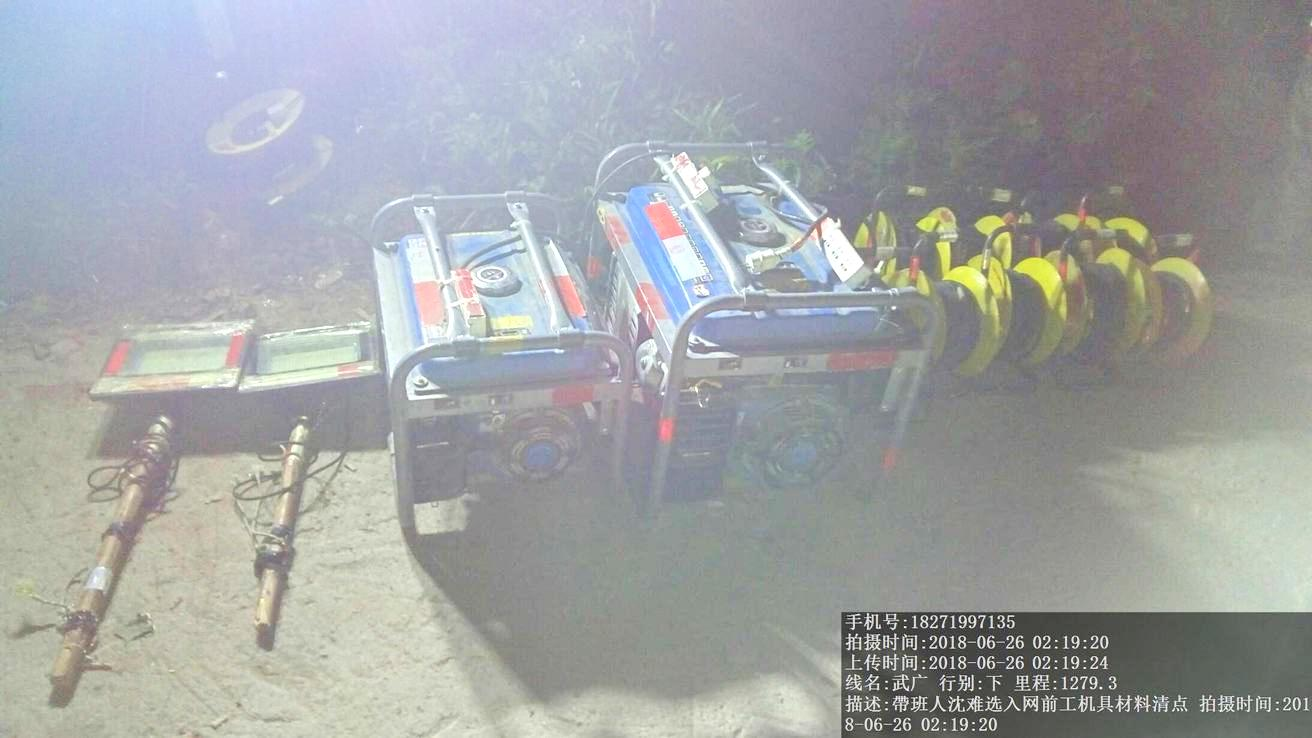DJ: (620, 141, 901, 490), (366, 192, 629, 526)
DX: (1060, 242, 1148, 385), (922, 258, 1009, 379)
